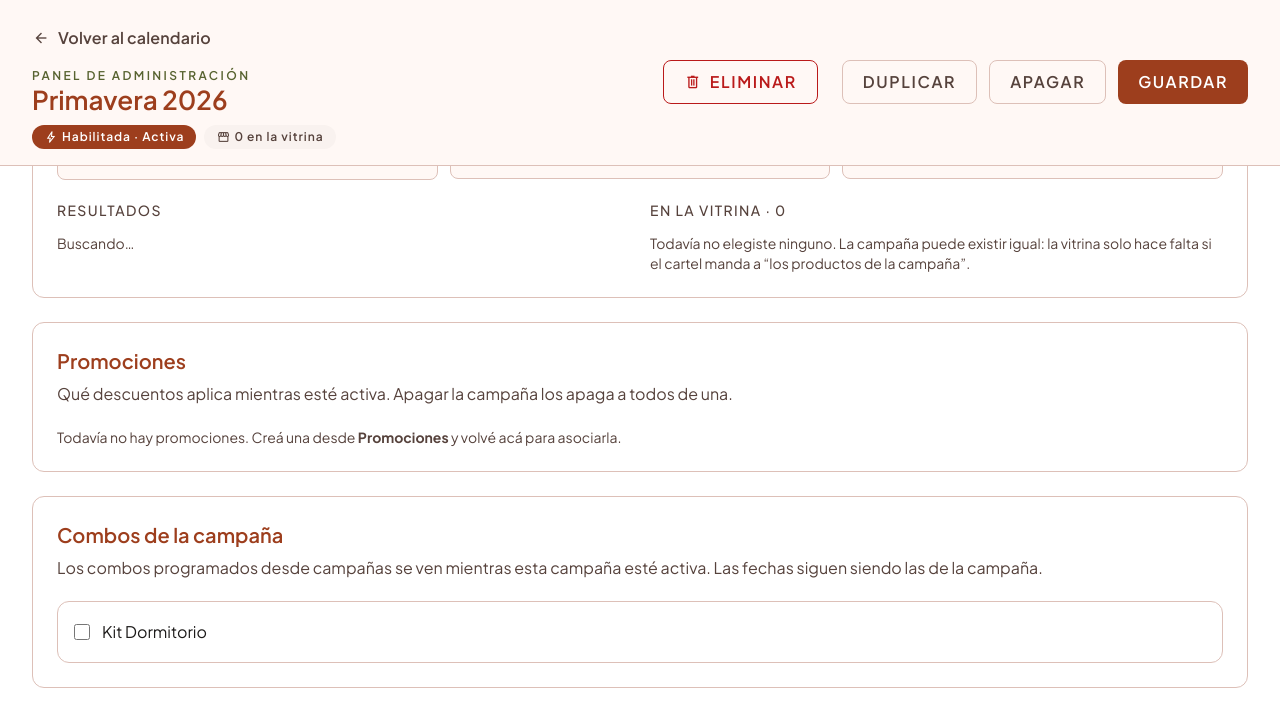
Test: AdminCampaniaEditor — combos de la campaña › el fallo al guardar los combos se ve DENTRO de su sección
(page scrolled)
Click the checkbox labelled "Kit Dormitorio" at (82, 632), box [74, 624, 90, 640]
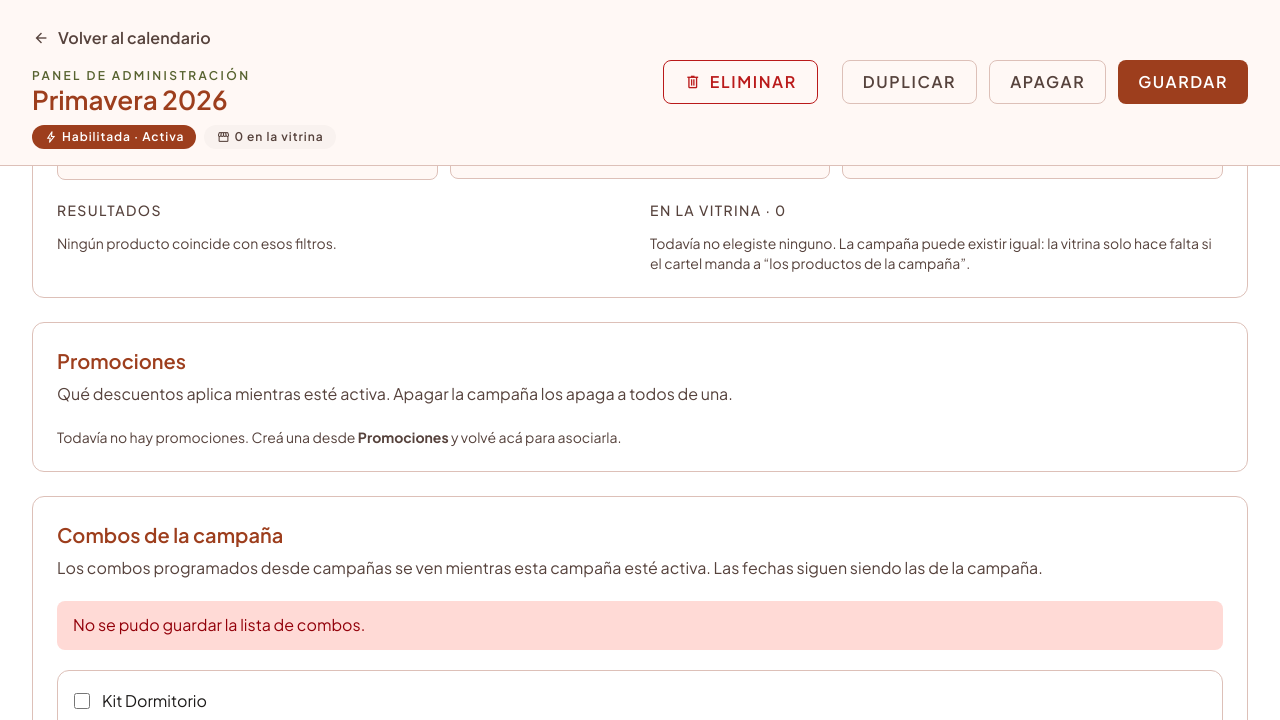
expect the text "No se pudo guardar la lista de combos." is shown: met, box [57, 601, 1223, 650]
